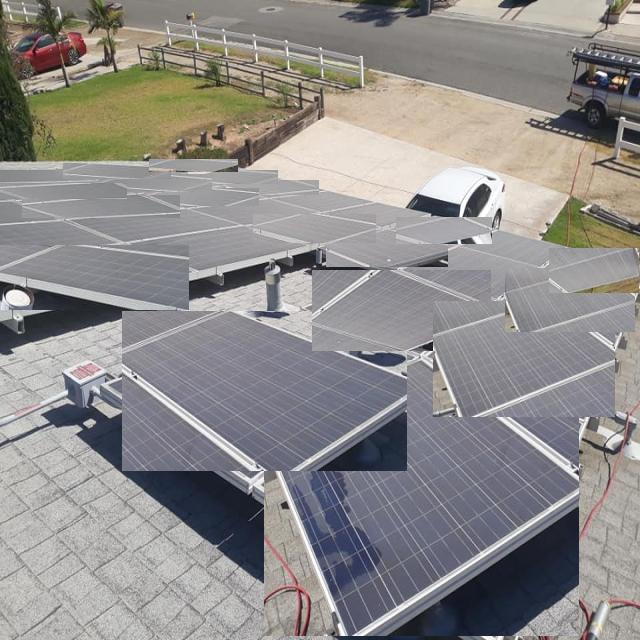Dusty: (265, 360, 579, 636), (122, 312, 407, 471), (433, 301, 615, 417), (313, 271, 491, 351), (0, 245, 189, 310), (505, 268, 635, 332), (134, 226, 303, 269), (407, 247, 536, 295), (75, 211, 236, 241), (327, 230, 448, 267), (0, 222, 116, 257), (549, 248, 639, 293), (22, 195, 180, 218), (254, 215, 376, 243), (195, 200, 314, 223), (397, 217, 492, 244), (328, 202, 425, 225), (99, 174, 212, 192), (0, 183, 127, 199), (144, 189, 259, 206), (274, 191, 371, 211), (63, 164, 171, 179), (227, 180, 319, 195), (189, 171, 278, 184), (0, 169, 85, 182), (149, 160, 238, 172), (1, 202, 53, 221)
